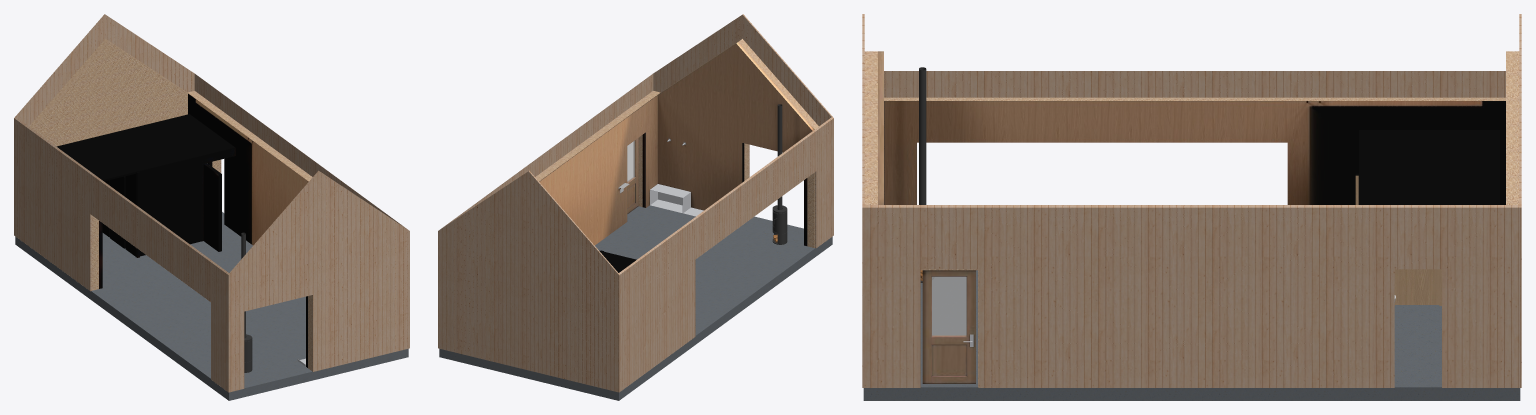
File: Light_Base_no Light.glb
3 views of the same model, side by side, from view 1: azimuth 30°, elevation 25°; view 2: azimuth 150°, elevation 25°; view 3: azimuth 270°, elevation 25° (orthographic). The views are drawn at different scales.
Visible parts, largest first — view 1: Exterior_Wood_Black_Base.001, Interior_Wood_Black_Base_no light, Concrete_Black_Base.002, Insolation_Black_Base.001, Fire Place_Black_Base.001; view 2: Exterior_Wood_Black_Base.001, Interior_Wood_Black_Base_no light, Concrete_Black_Base.002, Insolation_Black_Base.001, Alumininum_1_Black_Base.001, Fire Place_Black_Base.001; view 3: Exterior_Wood_Black_Base.001, Interior_Wood_Black_Base_no light, Concrete_Black_Base.002, Insolation_Black_Base.001, Glass_Black_Base.001, Fire Place_Black_Base.001.
Boxes of the visible parts, x1,y1,x2,y2 form: Exterior_Wood_Black_Base.001: (14,14,409,392); Interior_Wood_Black_Base_no light: (56,93,308,367); Concrete_Black_Base.002: (15,212,408,400); Insolation_Black_Base.001: (29,39,312,370); Fire Place_Black_Base.001: (241,232,252,372); Exterior_Wood_Black_Base.001: (438,14,833,392); Interior_Wood_Black_Base_no light: (539,42,814,272); Concrete_Black_Base.002: (439,205,832,400); Insolation_Black_Base.001: (535,39,818,247); Alumininum_1_Black_Base.001: (618,138,703,216); Fire Place_Black_Base.001: (772,104,787,244); Exterior_Wood_Black_Base.001: (862,14,1521,387); Interior_Wood_Black_Base_no light: (878,51,1505,383); Concrete_Black_Base.002: (863,270,1520,400); Insolation_Black_Base.001: (864,51,1519,386); Glass_Black_Base.001: (932,276,966,335); Fire Place_Black_Base.001: (919,67,933,282).
Bounding box in the file's own units: 2.18 × 2.39 × 4.46.
Materials: 14 (6 with a texture image).
